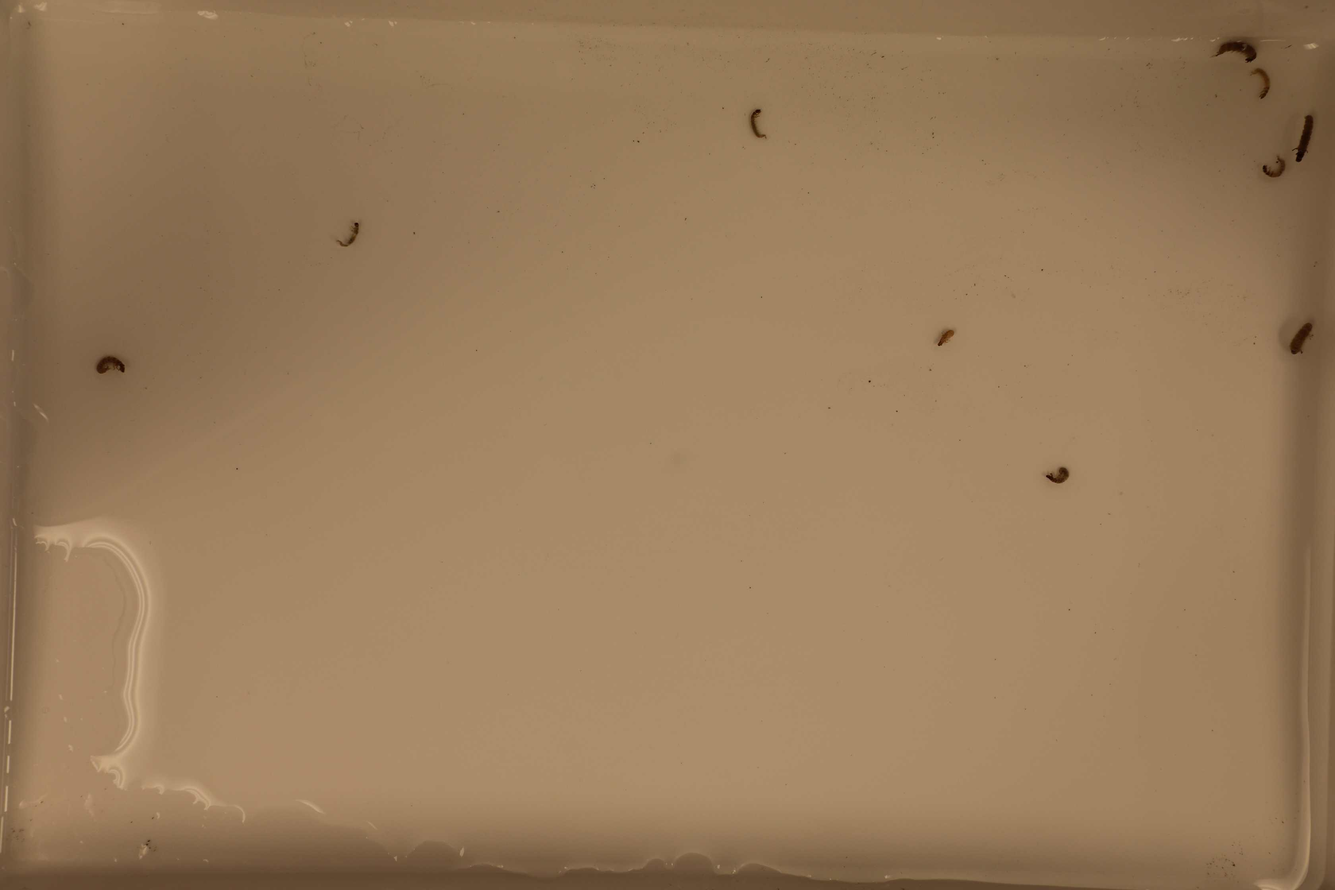Cadisfly: (330, 211, 368, 254), (1293, 109, 1323, 163), (1283, 317, 1318, 360), (1214, 36, 1260, 64), (91, 350, 130, 381), (745, 104, 773, 144), (1248, 64, 1275, 101), (1042, 459, 1077, 487), (1260, 152, 1290, 178), (933, 325, 961, 352)
